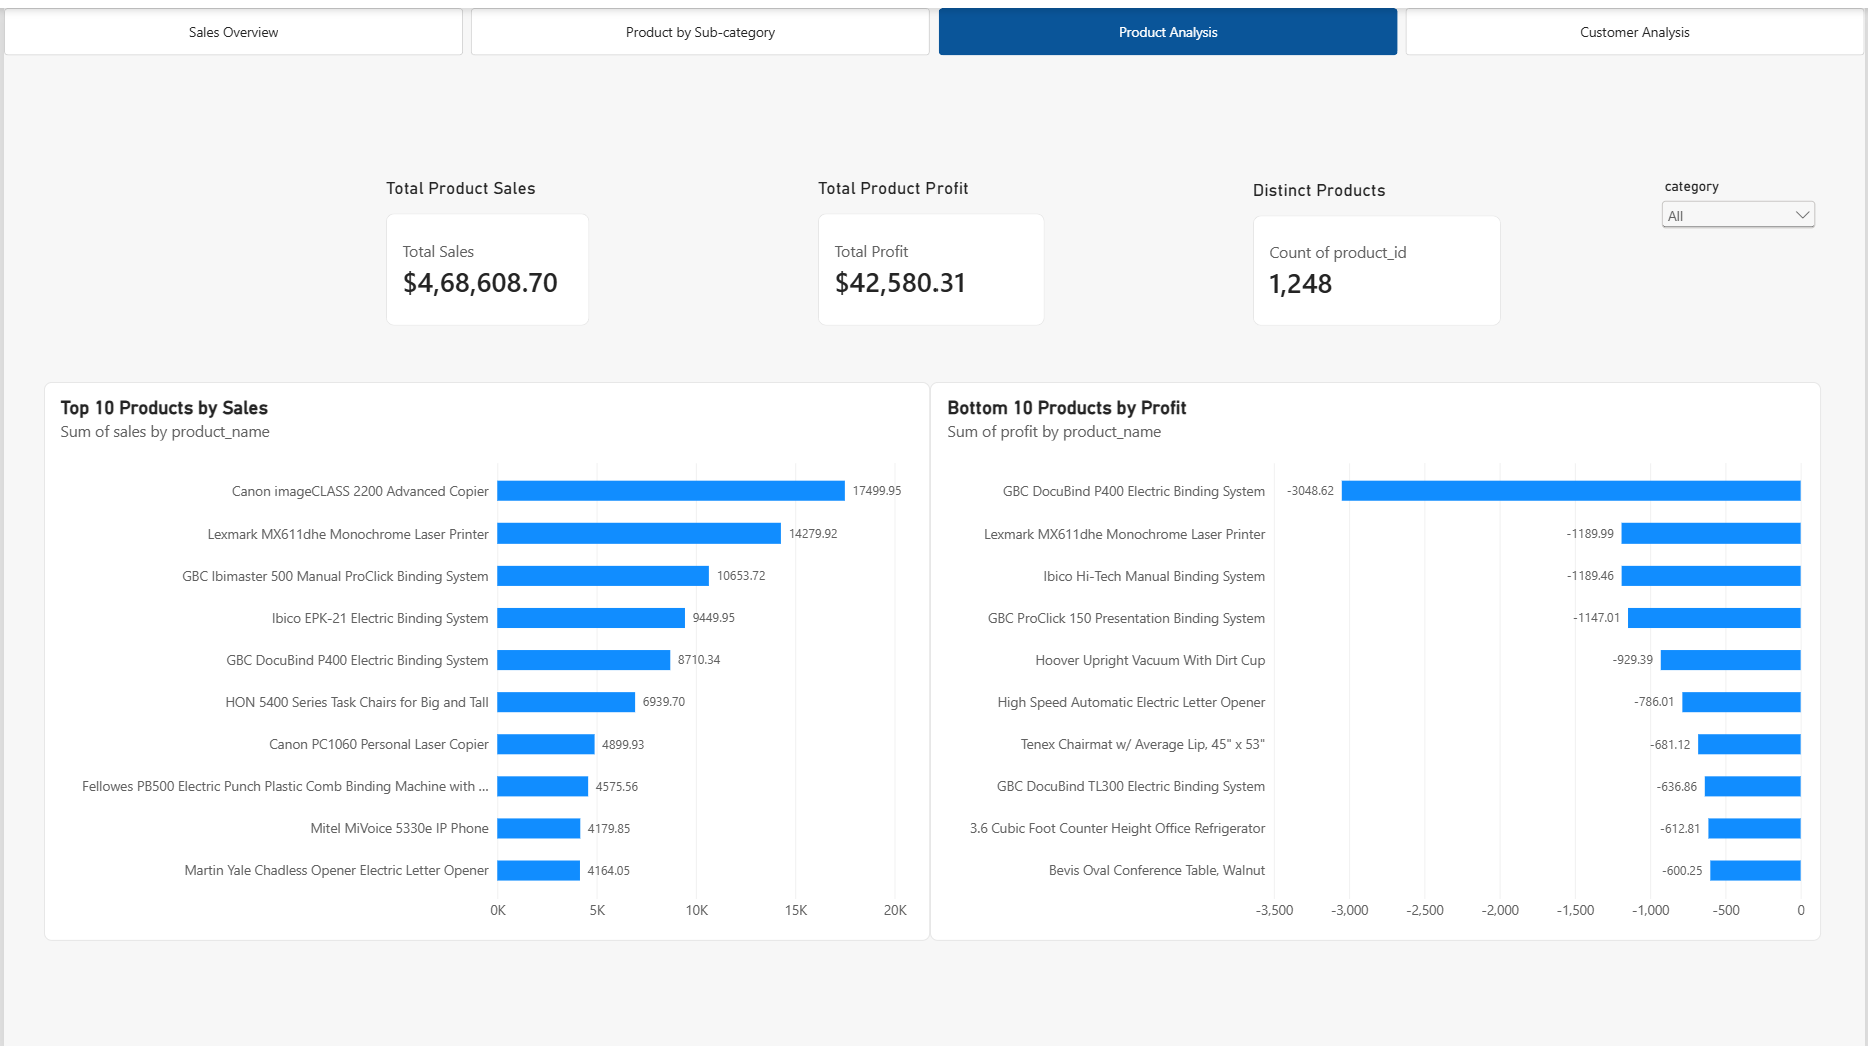

This screenshot's page, from the dashboard's own definition file:
{"tool":"powerbi","page":{"name":"Product Analysis","canvas":[1920,1080],"ordinal":2},"visuals":[{"type":"clusteredBarChart","title":"Top 10 Products by Sales","fields":{"Category":["public superstore_historical.product_name"],"Y":["Sum(public superstore_historical.sales)"]},"box":[40.3,387.2,914.8,576.1],"z":0},{"type":"clusteredBarChart","title":"Bottom 10 Products by Profit","fields":{"Category":["public superstore_historical.product_name"],"Y":["Sum(public superstore_historical.profit)"]},"box":[955.1,387.2,918.9,576.1],"z":1000},{"type":"slicer","fields":{"Values":["public superstore_historical.category"]},"box":[1704.7,176.6,168.3,63.7],"z":3000},{"type":"cardVisual","title":"Total Product Sales","fields":{"Data":["public superstore_historical.Total Sales"]},"box":[393.4,176.6,210.6,152.8],"z":5000},{"type":"cardVisual","title":"Total Product Profit","fields":{"Data":["public superstore_historical.Total Profit"]},"box":[839.4,176.6,233.3,152.8],"z":6000},{"type":"cardVisual","title":"Distinct Products","fields":{"Data":["Count(public superstore_historical.product_id)"]},"box":[1287.5,178.6,256.1,150.7],"z":7000},{"type":"pageNavigator","box":[0,0,1920.5,49.6],"z":7001}]}

Visuals, with their boxes in screenshot pixels (x1, y1, x2, y2), scaled from the page's 1920x1080 canvas onto the 1868x1046 screenshot:
"Top 10 Products by Sales" clusteredBarChart: region(39, 375, 929, 933)
"Bottom 10 Products by Profit" clusteredBarChart: region(929, 375, 1823, 933)
slicer - public superstore_historical.category: region(1659, 171, 1822, 233)
"Total Product Sales" cardVisual: region(383, 171, 588, 319)
"Total Product Profit" cardVisual: region(817, 171, 1044, 319)
"Distinct Products" cardVisual: region(1253, 173, 1502, 319)
pageNavigator: region(0, 0, 1867, 48)
